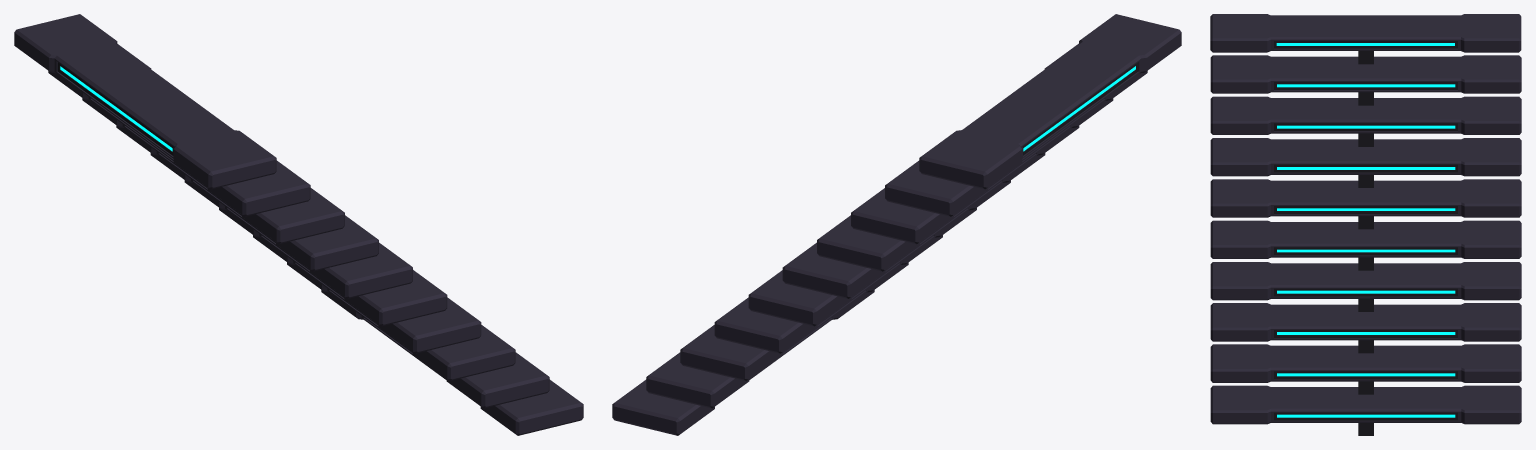
File: SM_Stairs_1x1.fbx
3 renders of one model, left to right at view 1: azimuth 30°, elevation 25°; view 2: azimuth 150°, elevation 25°; view 3: azimuth 270°, elevation 25°, orthographic. The views are drawn at different scales.
Visible parts, largest first — view 1: SM_Escalier; view 2: SM_Escalier; view 3: SM_Escalier.
Boxes of the visible parts, bbox=[...] form: SM_Escalier: bbox=[14, 14, 583, 435]; SM_Escalier: bbox=[612, 14, 1181, 435]; SM_Escalier: bbox=[1210, 14, 1521, 435].
Size of the model in its own units: 110 by 100 by 100.
